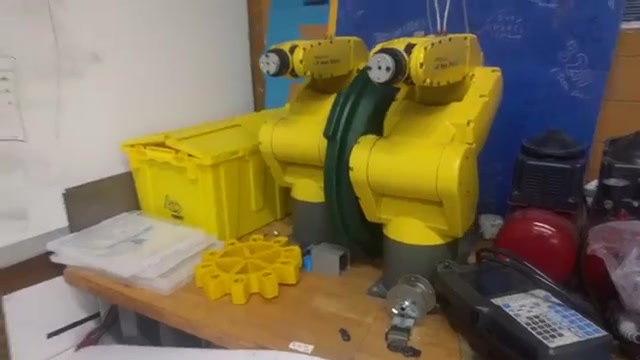gear: (192, 232, 304, 306)
